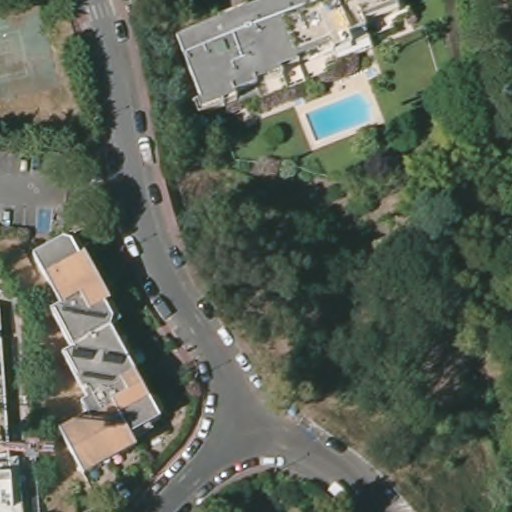pool: (305, 92, 372, 140)
